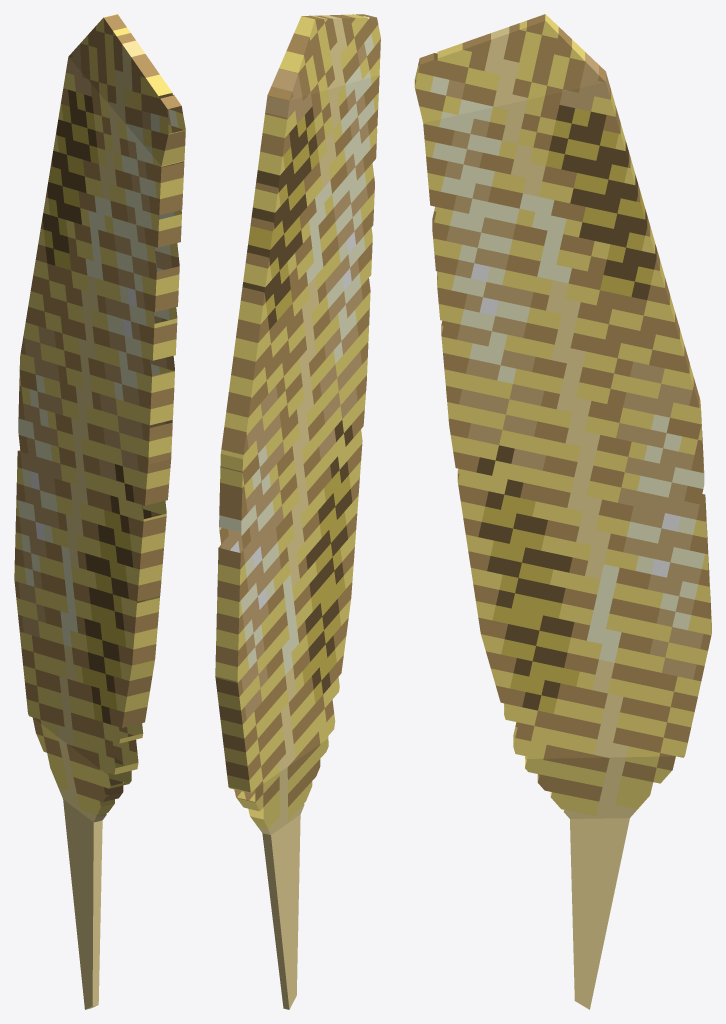
Rendered from feather.glb.
The picture shows the model from 3 angles, left to right: view 1: azimuth 30°, elevation 25°; view 2: azimuth 150°, elevation 25°; view 3: azimuth 270°, elevation 25°; orthographic projection. The views are drawn at different scales.
Parts seen in each view (by area): view 1: feather; view 2: feather; view 3: feather.
Part boxes in pixels (x1,y1,x2,y2): feather: [14, 14, 185, 1009]; feather: [215, 14, 380, 1009]; feather: [414, 14, 711, 1009].
Bounding box in the file's own units: 0.0217 × 0.909 × 0.2508.
Materials: 1 (1 with a texture image).
